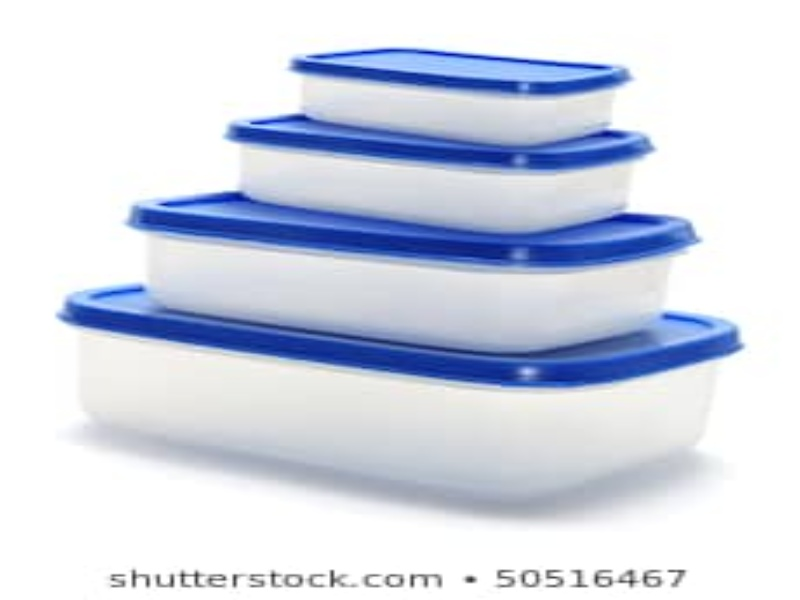plastic-container: (285, 41, 634, 142)
plastic-silverware: (54, 280, 748, 502), (126, 193, 693, 351), (224, 110, 651, 235)
